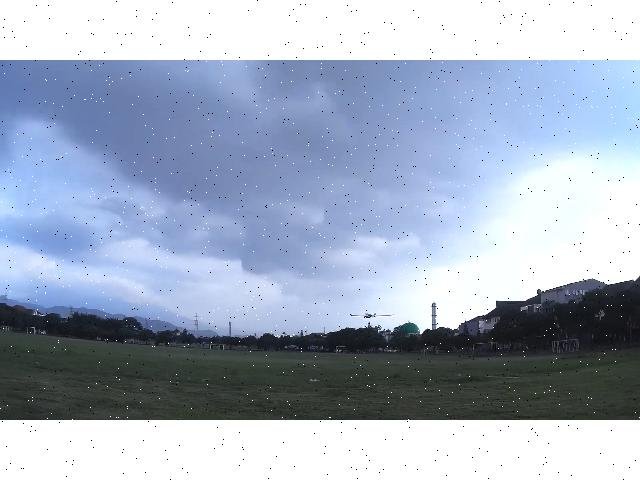Anti-Drone: (348, 313, 394, 319)
